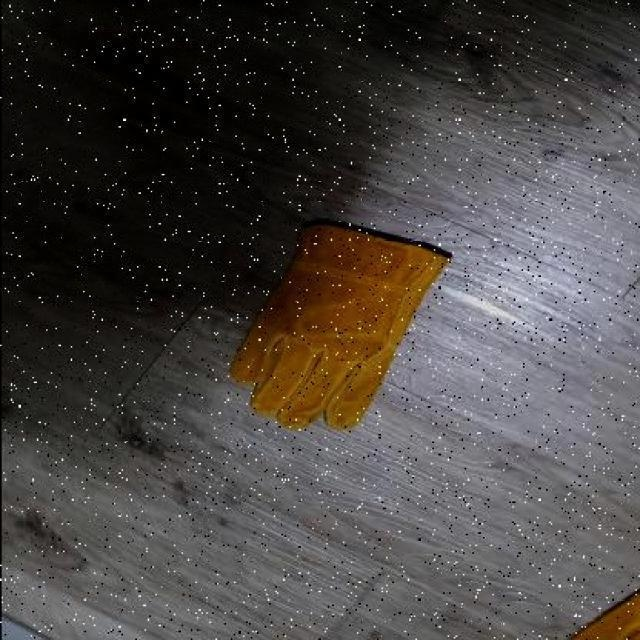Guantes: (227, 217, 453, 433)
